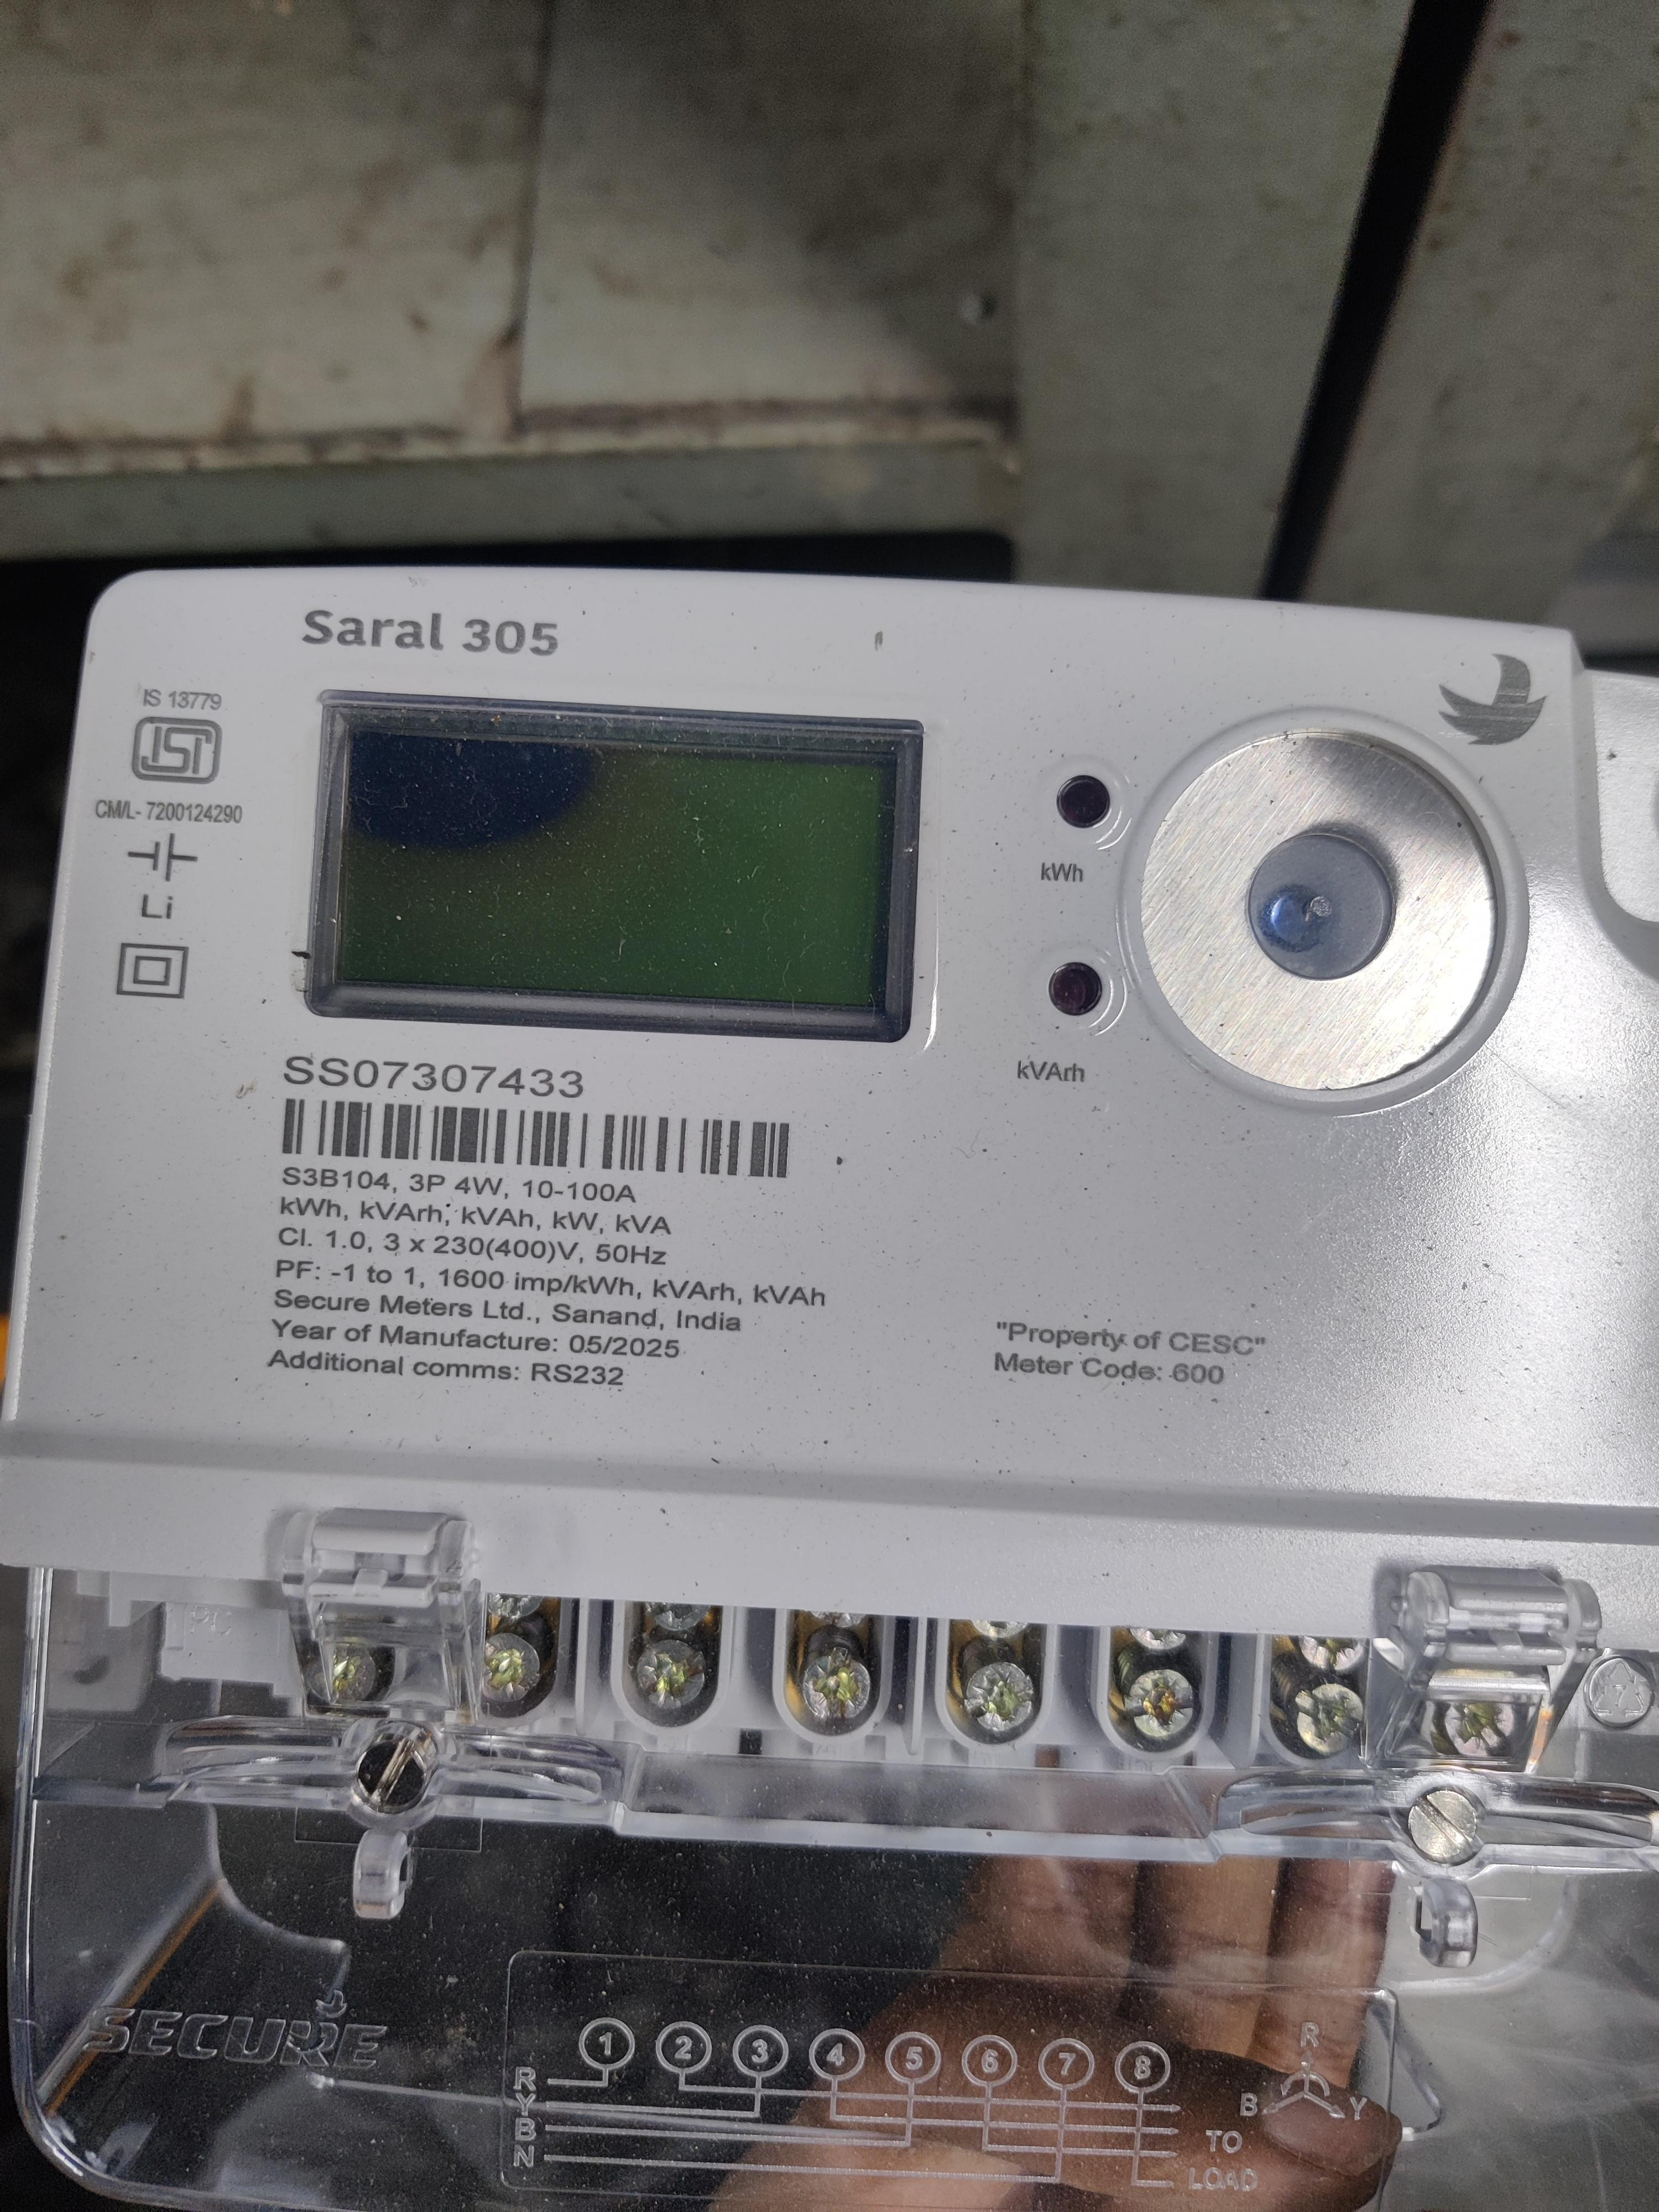meter_readings: (354, 735, 887, 1014)
serial_number: (274, 1054, 606, 1103)
